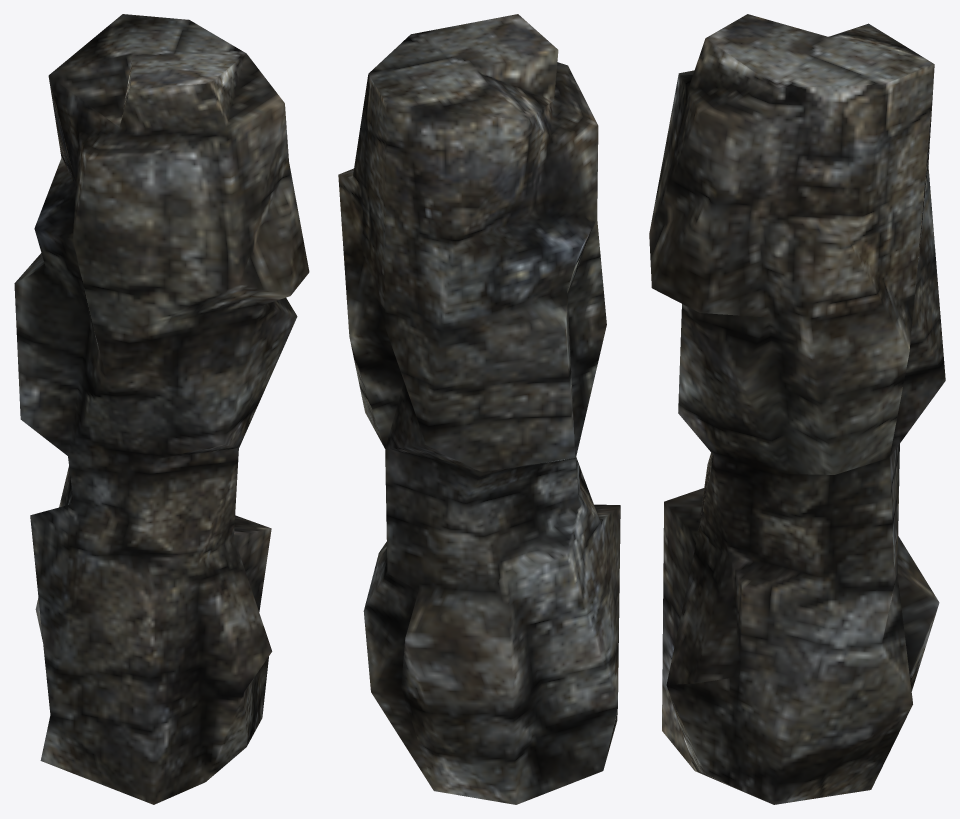
The model's file is Rock9_LOD1.fbx.
3 renders of one model, left to right at view 1: azimuth 30°, elevation 25°; view 2: azimuth 150°, elevation 25°; view 3: azimuth 270°, elevation 25°, orthographic. The views are drawn at different scales.
Visible parts, largest first — view 1: Rock9_Group6680; view 2: Rock9_Group6680; view 3: Rock9_Group6680.
Boxes of the visible parts, x1,y1,x2,y2 form: Rock9_Group6680: (14,14,309,804); Rock9_Group6680: (338,14,620,804); Rock9_Group6680: (649,14,945,804).
Size of the model in its own units: 2.08 by 5.88 by 2.11.
